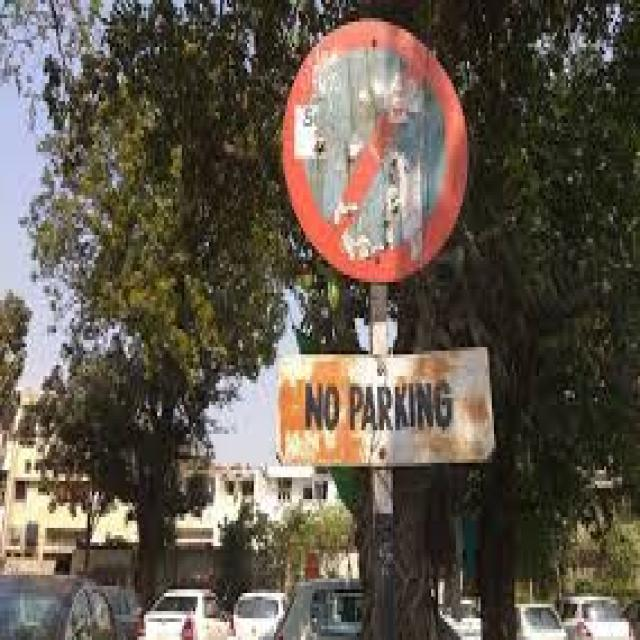no parking: (279, 19, 477, 288)
